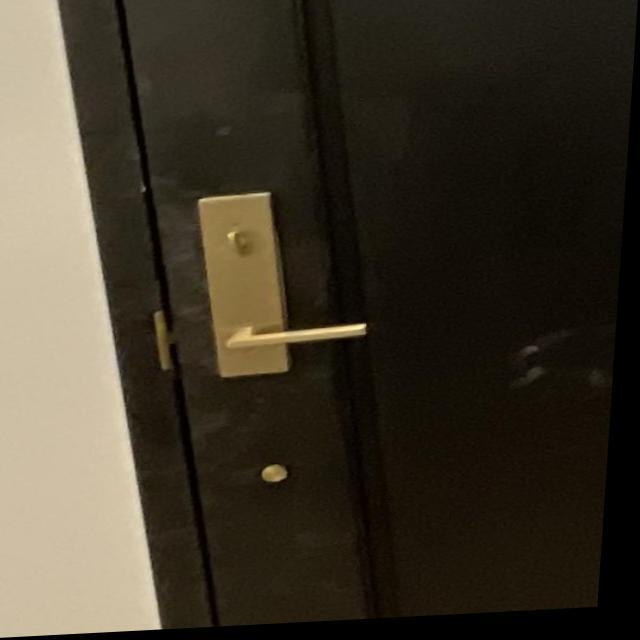door_handle: (197, 313, 390, 366)
